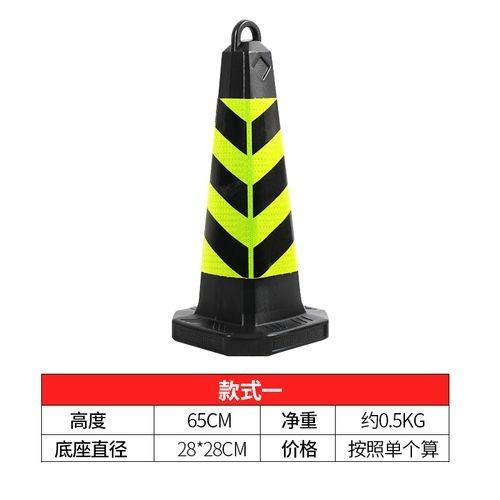cone_barrel: (165, 22, 331, 360)
